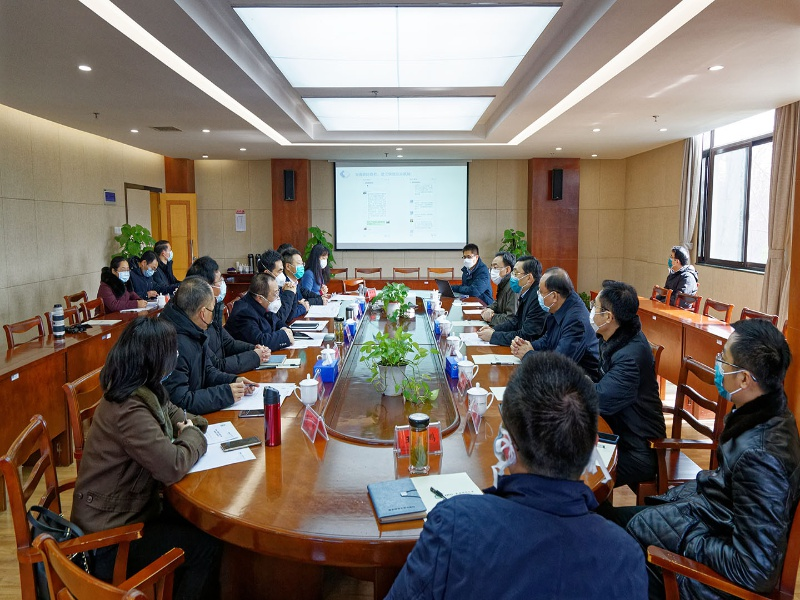ManaoArotava: (706, 321, 772, 419), (583, 274, 632, 346), (532, 268, 566, 324), (104, 251, 137, 288), (484, 250, 512, 288), (660, 243, 689, 277), (459, 240, 483, 280)
